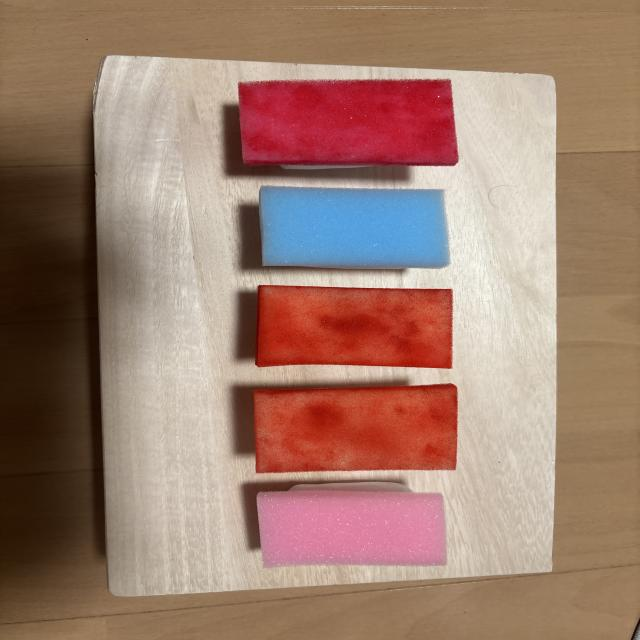ika: (260, 186, 449, 269)
maguro: (239, 79, 458, 169)
salmon: (254, 383, 457, 472), (255, 285, 453, 369)
tai: (257, 483, 446, 567)
